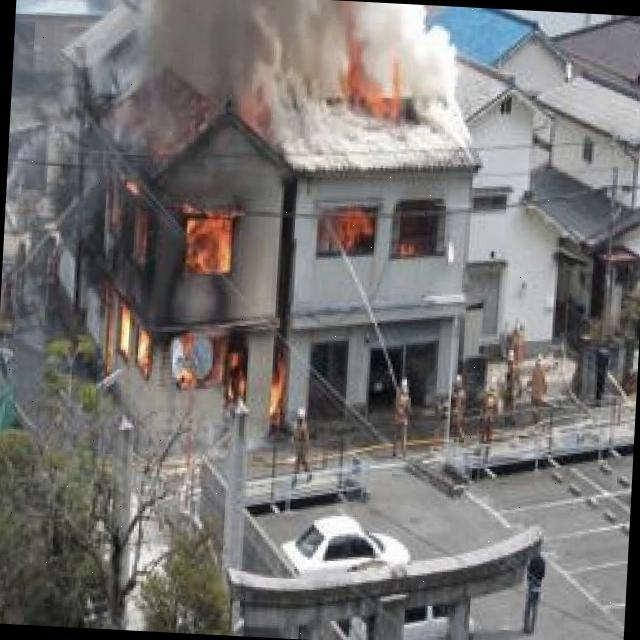fire: (91, 150, 308, 432), (332, 18, 423, 120), (316, 205, 442, 270)
